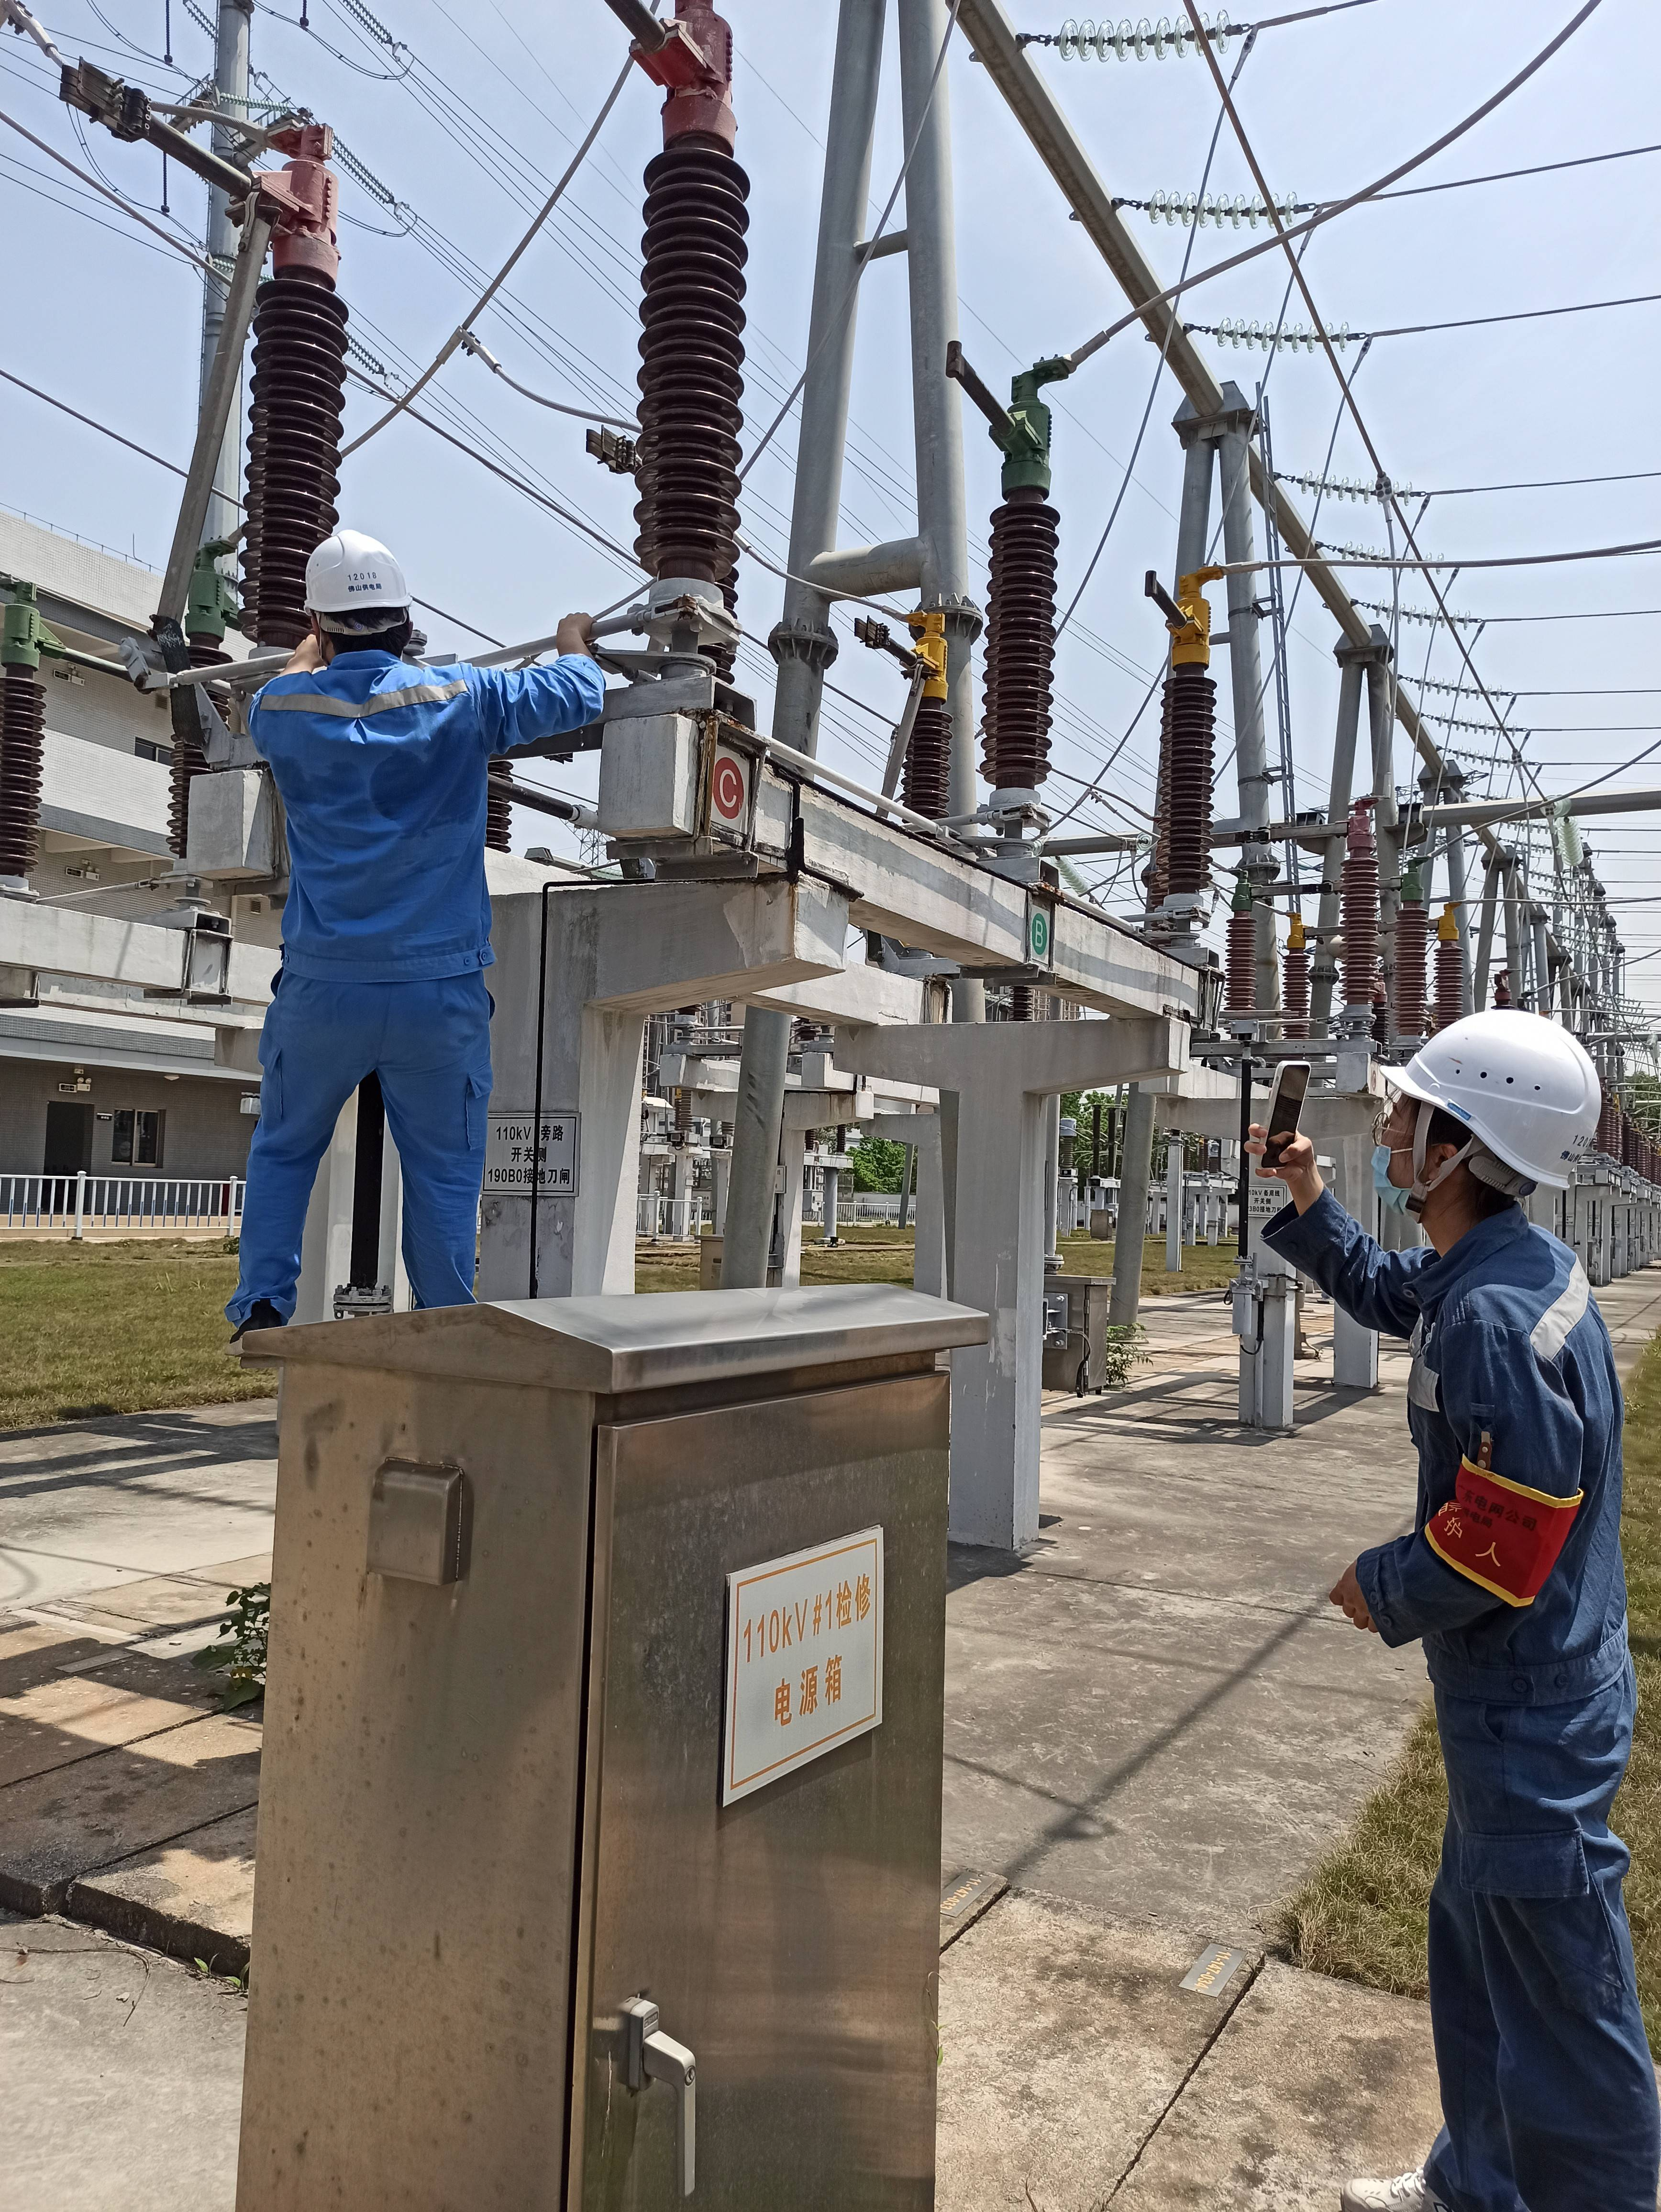downsuit: (1418, 1708, 1661, 2196), (220, 996, 508, 1310)
upsuit: (1265, 1183, 1647, 1683), (244, 640, 609, 954)
wrongtop: (555, 616, 602, 680), (283, 637, 323, 680)
